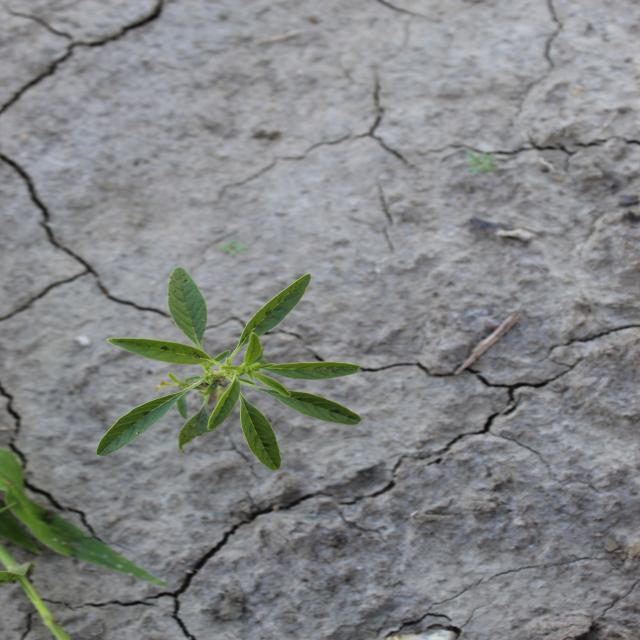Waterhemp: (94, 266, 365, 472)
